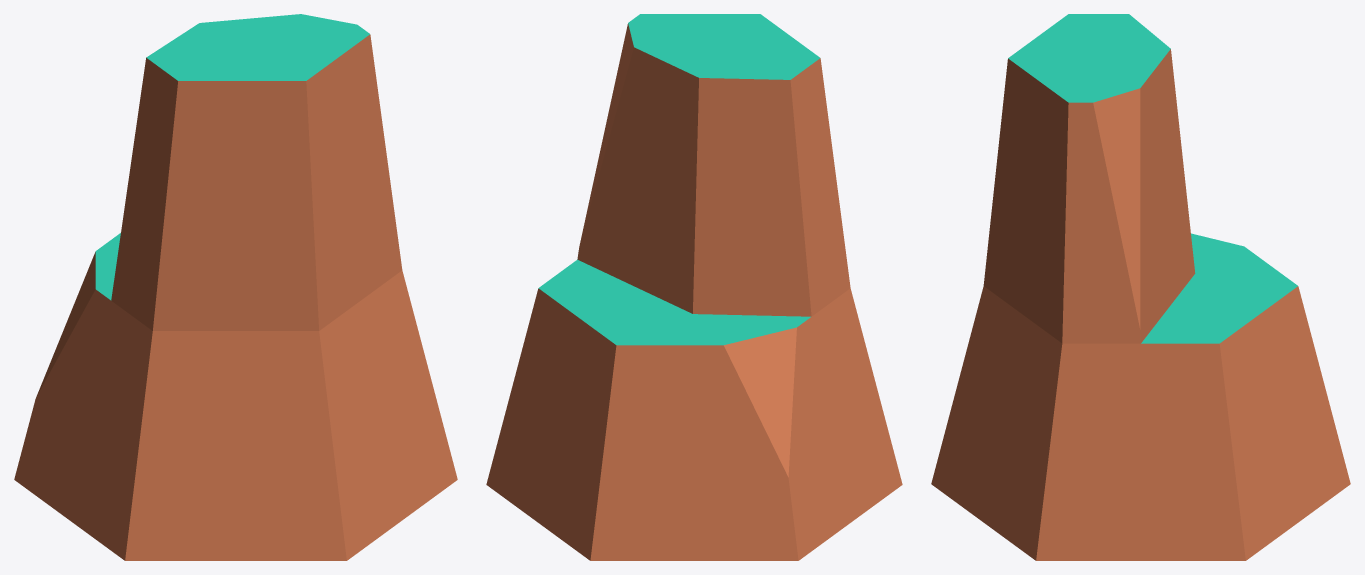
Rendered from rock_tallF.glb.
The picture shows the model from 3 angles, left to right: view 1: azimuth 30°, elevation 25°; view 2: azimuth 150°, elevation 25°; view 3: azimuth 270°, elevation 25°; orthographic projection. The views are drawn at different scales.
Parts seen in each view (by area): view 1: rock_tallF; view 2: rock_tallF; view 3: rock_tallF.
Part boxes in pixels (left/top/right/bottom): rock_tallF: left=14, top=14, right=457, bottom=560; rock_tallF: left=486, top=14, right=902, bottom=560; rock_tallF: left=931, top=14, right=1350, bottom=560.
Size of the model in its own units: 0.4437 by 0.5737 by 0.5123.
